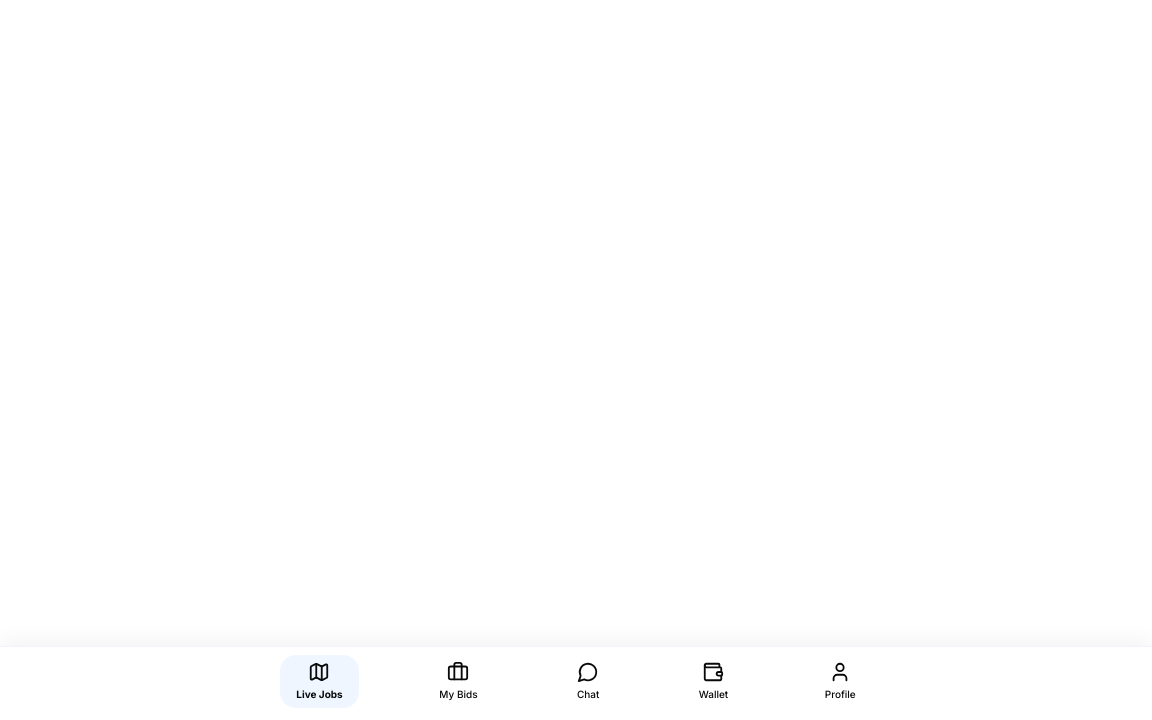
Scenario: WalletScreen — Sprint 5.6 (refined) › renders the empty-transactions state when /transactions returns []
Click the link "Wallet".
click(713, 680)  # box [699, 661, 728, 700]
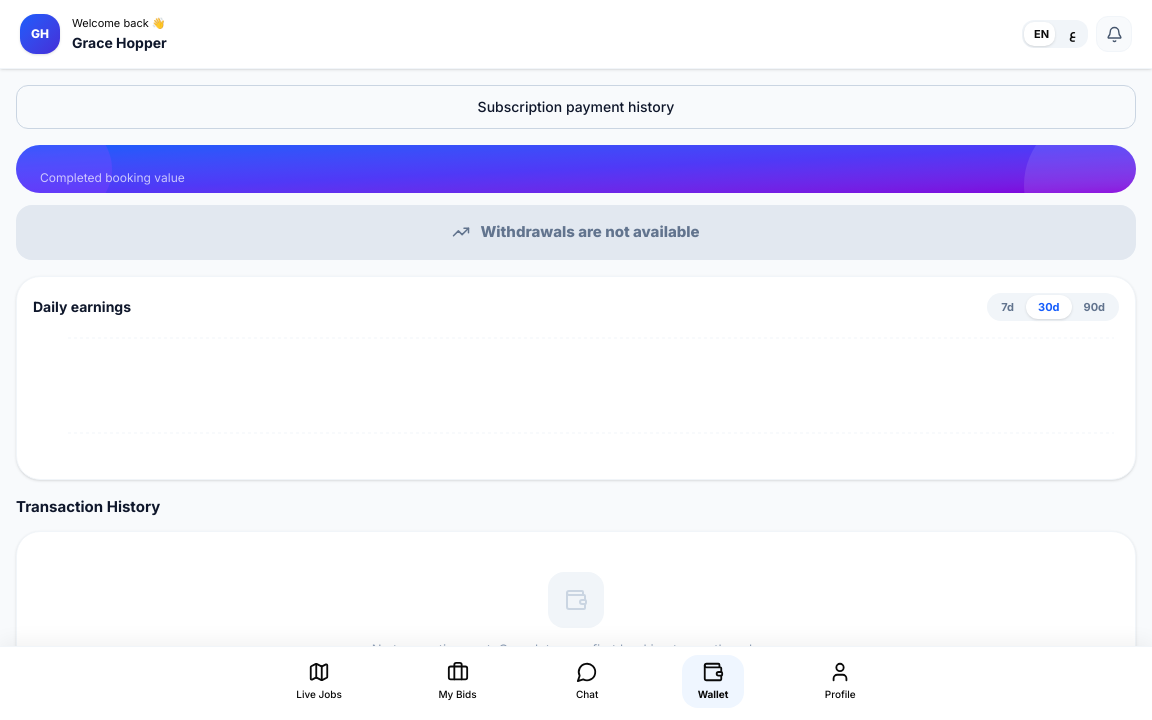
Now the text "Completed booking value" is shown, box [40, 170, 185, 185]
